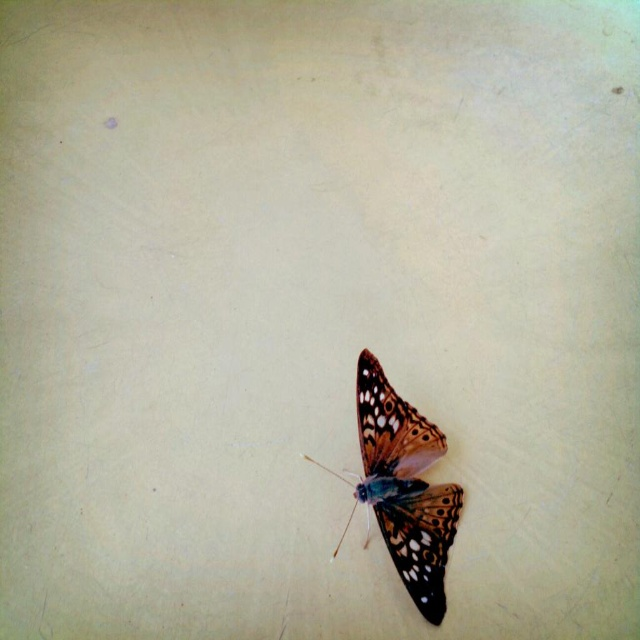Butterfly: (304, 350, 464, 621)
